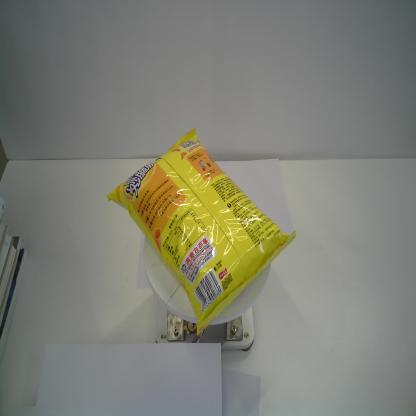Puffed Food: (105, 129, 296, 338)
